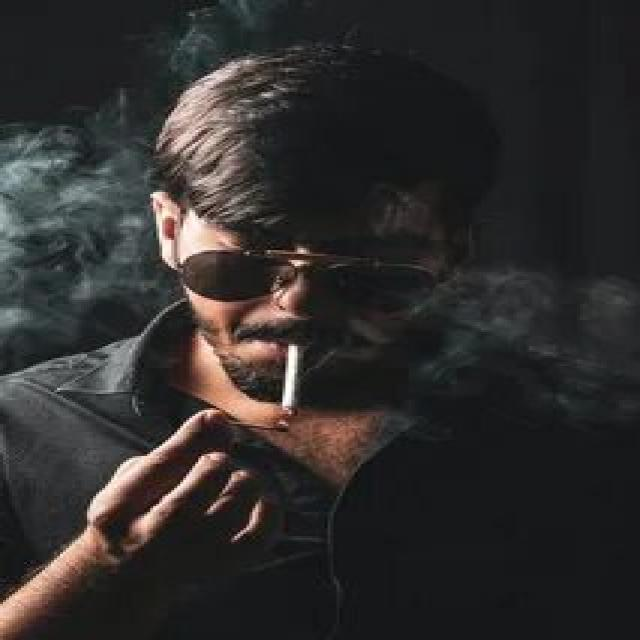cigarette: (276, 340, 306, 418)
